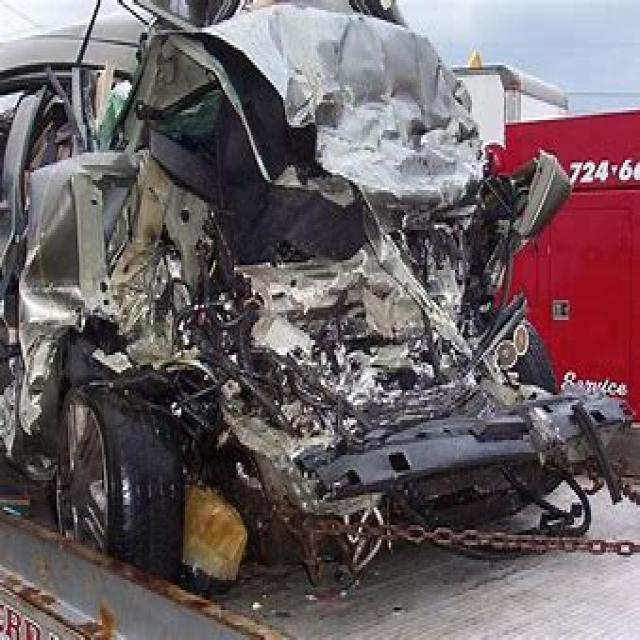Accident: (51, 52, 640, 550)
